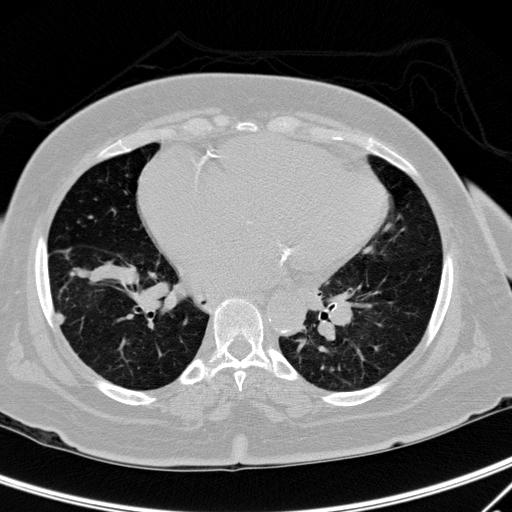nodule: (52, 311, 67, 326)
